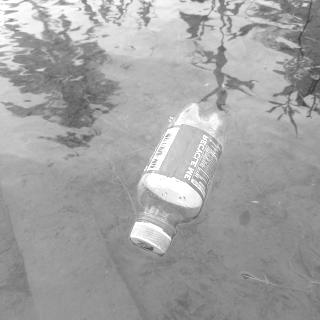bottle: (130, 101, 231, 256)
